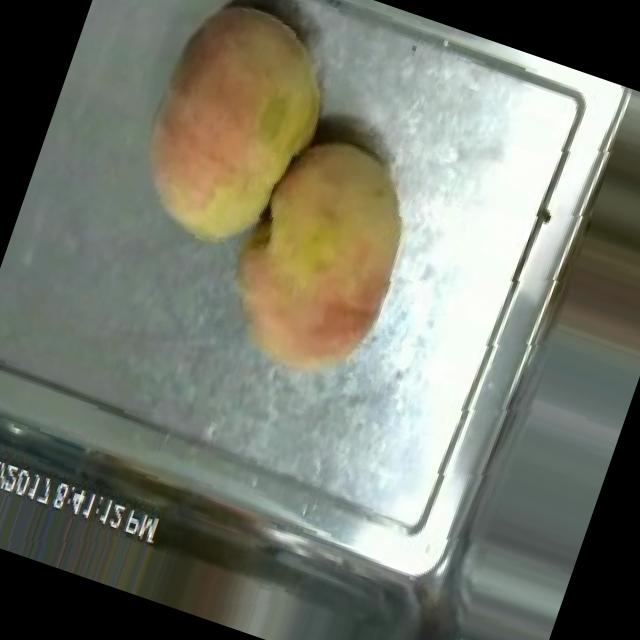Fruit: (107, 0, 358, 275), (202, 115, 440, 402)
